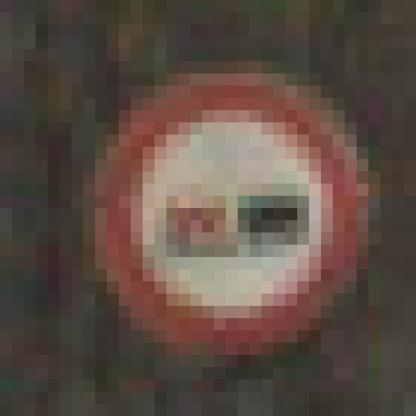No Overtaking: (72, 62, 346, 356)
